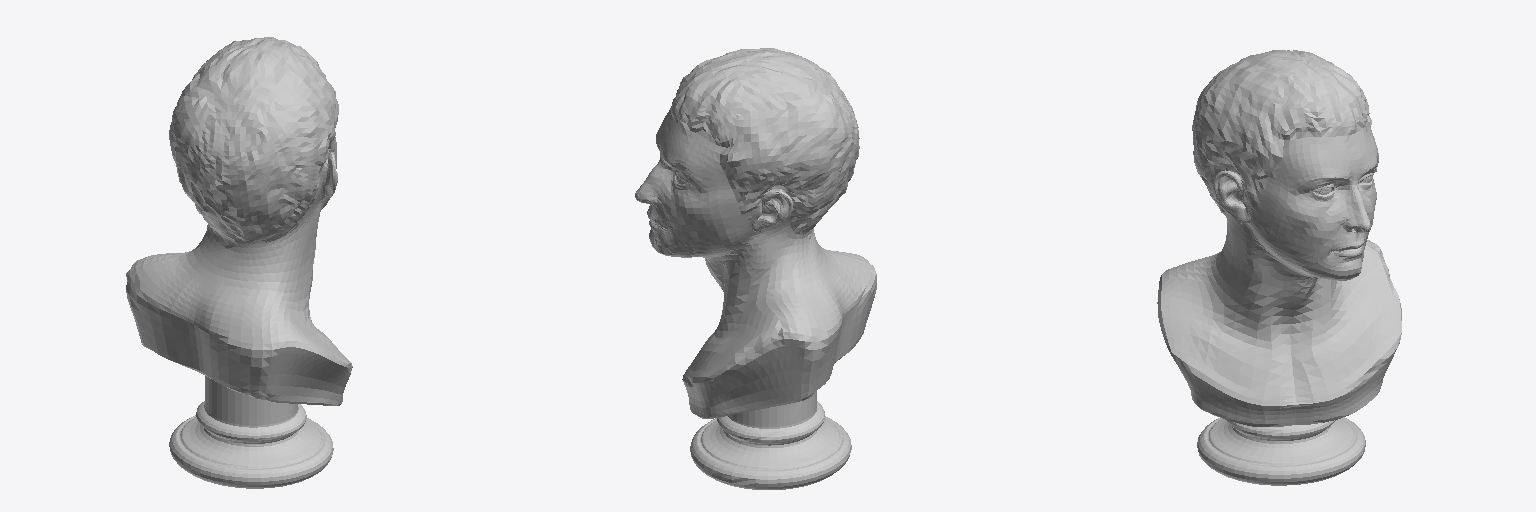
File: marbleBust.obj
3 renders of one model, left to right at view 1: azimuth 30°, elevation 25°; view 2: azimuth 150°, elevation 25°; view 3: azimuth 270°, elevation 25°, orthographic.
Visible parts, largest first — view 1: marble_bust_01; view 2: marble_bust_01; view 3: marble_bust_01.
Boxes of the visible parts, x1,y1,x2,y2 form: marble_bust_01: [126, 37, 352, 488]; marble_bust_01: [635, 48, 876, 489]; marble_bust_01: [1157, 50, 1401, 485].
Size of the model in its own units: 0.2412 by 0.5149 by 0.2841.